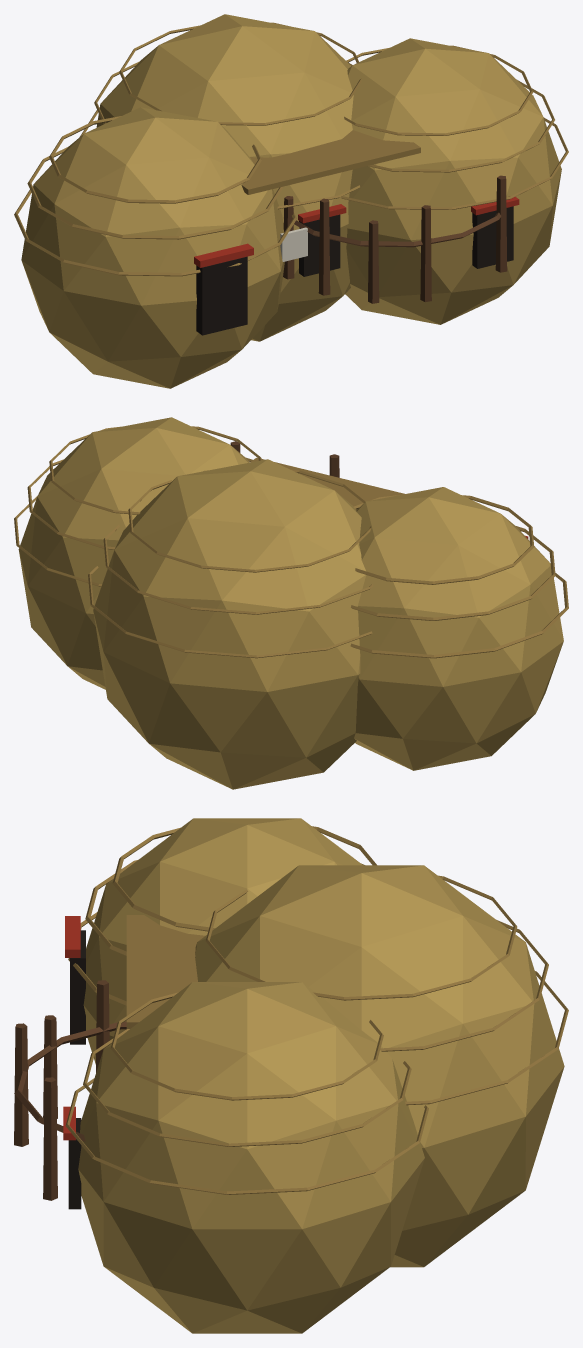
The model's file is elephant_compound_broken.glb.
The picture shows the model from 3 angles, top to bottom: view 1: azimuth 30°, elevation 25°; view 2: azimuth 150°, elevation 25°; view 3: azimuth 270°, elevation 25°; orthographic projection. The views are drawn at different scales.
Visible parts, largest first — view 1: elephant_compound_piece3, elephant_compound_piece6, elephant_compound_piece10, elephant_compound_piece0, elephant_compound_piece4, elephant_compound_piece9, elephant_compound_piece5, elephant_compound_piece7, elephant_compound_piece2, elephant_compound_piece8; view 2: elephant_compound_piece2, elephant_compound_piece5, elephant_compound_piece1, elephant_compound_piece4, elephant_compound_piece3, elephant_compound_piece0, elephant_compound_piece9, elephant_compound_piece6, elephant_compound_piece7; view 3: elephant_compound_piece3, elephant_compound_piece5, elephant_compound_piece1, elephant_compound_piece7, elephant_compound_piece2, elephant_compound_piece6, elephant_compound_piece9, elephant_compound_piece4, elephant_compound_piece10.
Boxes of the visible parts, bbox=[...] form: elephant_compound_piece3: bbox=[149, 44, 568, 272]; elephant_compound_piece6: bbox=[46, 162, 482, 318]; elephant_compound_piece10: bbox=[51, 218, 534, 368]; elephant_compound_piece0: bbox=[22, 185, 456, 388]; elephant_compound_piece4: bbox=[49, 40, 377, 205]; elephant_compound_piece9: bbox=[54, 114, 297, 223]; elephant_compound_piece5: bbox=[124, 14, 545, 119]; elephant_compound_piece7: bbox=[301, 200, 556, 324]; elephant_compound_piece2: bbox=[14, 22, 271, 322]; elephant_compound_piece8: bbox=[251, 299, 314, 341]; elephant_compound_piece2: bbox=[94, 532, 527, 789]; elephant_compound_piece5: bbox=[14, 445, 348, 562]; elephant_compound_piece1: bbox=[14, 523, 359, 788]; elephant_compound_piece4: bbox=[173, 459, 526, 590]; elephant_compound_piece3: bbox=[34, 417, 408, 515]; elephant_compound_piece0: bbox=[481, 586, 563, 757]; elephant_compound_piece9: bbox=[380, 487, 523, 585]; elephant_compound_piece6: bbox=[329, 454, 567, 598]; elephant_compound_piece7: bbox=[18, 535, 105, 689]; elephant_compound_piece3: bbox=[26, 838, 290, 1252]; elephant_compound_piece5: bbox=[234, 865, 480, 1230]; elephant_compound_piece1: bbox=[306, 994, 522, 1266]; elephant_compound_piece7: bbox=[111, 1191, 423, 1333]; elephant_compound_piece2: bbox=[325, 834, 568, 1196]; elephant_compound_piece6: bbox=[14, 818, 196, 1146]; elephant_compound_piece9: bbox=[126, 818, 280, 945]; elephant_compound_piece4: bbox=[275, 818, 359, 985]; elephant_compound_piece10: bbox=[70, 1020, 116, 1276].
Size of the model in its own units: 2.63 by 1.48 by 1.92.
